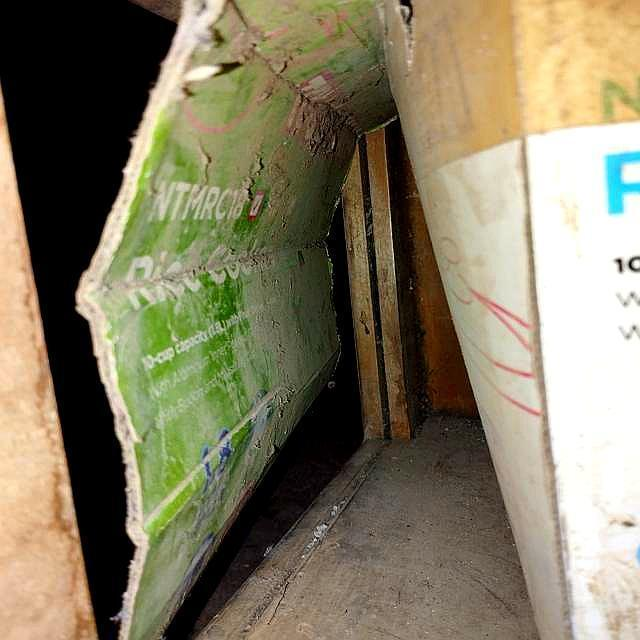Biodegradable: (80, 1, 424, 640), (382, 1, 640, 640)
